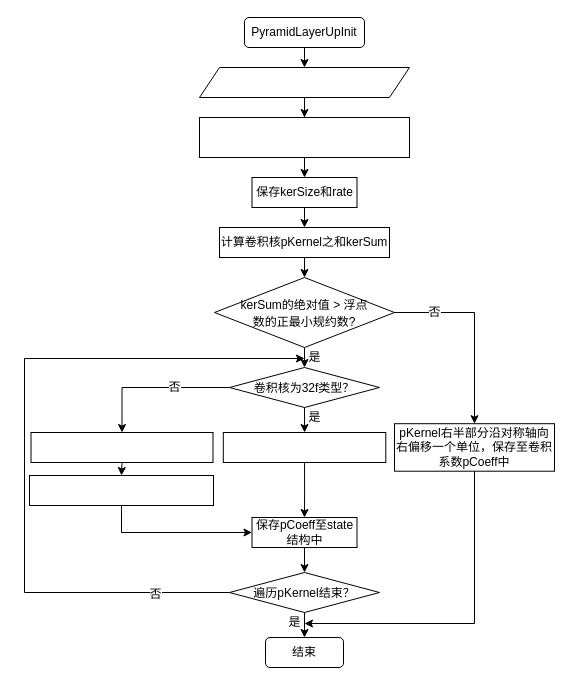
The diagram is 572 pixels wide and 685 high, and some of its shapes have lost their labels. Each missing label, with the centre of its shape:
pCoeff[i] = (pKernel[i]≪2)/(2*kerSum) * 8192: point (121, 447)
pCoeff[i] = pKernel[i] / kerSum: point (304, 447)
ppState, dstRoi, rate, pKernel, kerSize, mode: point (304, 82)
将pCoeff[i]进行四舍五入取整操作，取整后算术右移1次: point (121, 490)
根据dstRoi、rate和kerSize计算stateSize，然后给pState结构分配空间: point (304, 137)
